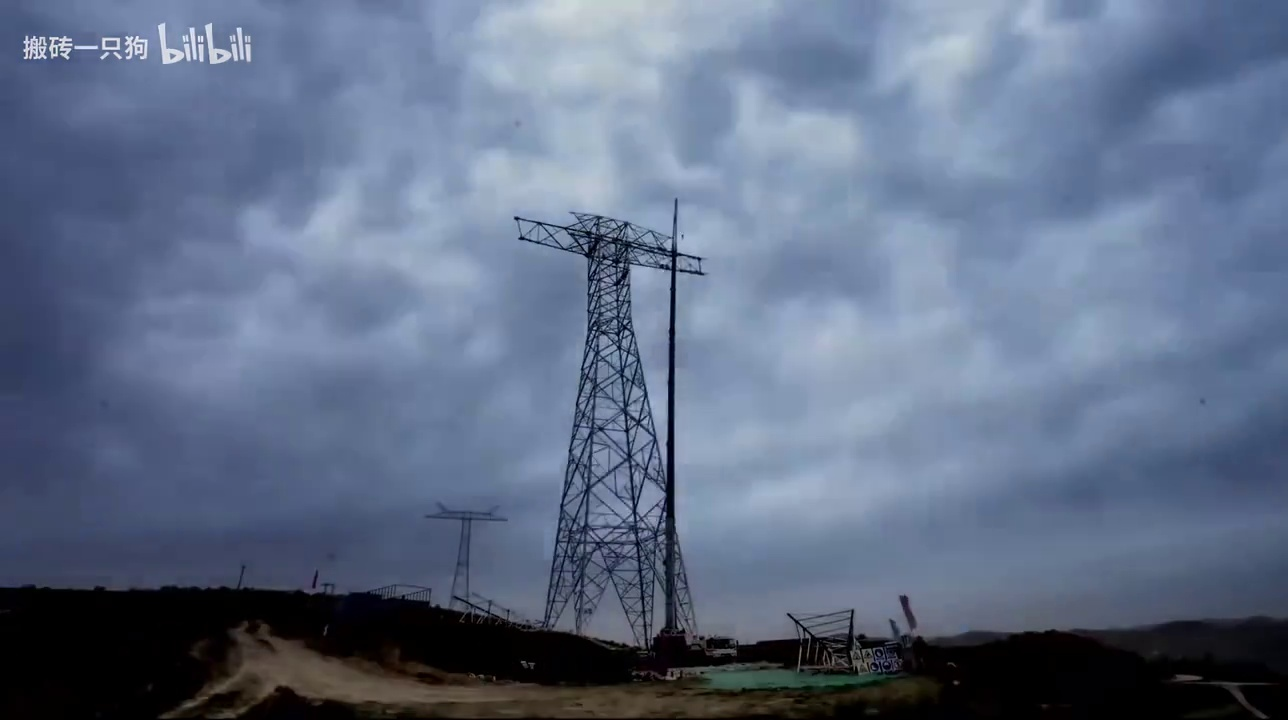tower_body: (500, 194, 716, 641)
tower_foot: (539, 523, 699, 636)
tower_head: (509, 202, 710, 280)
